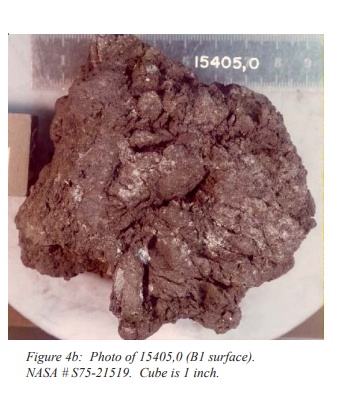Breccia: (42, 46, 298, 322), (80, 101, 260, 277)
